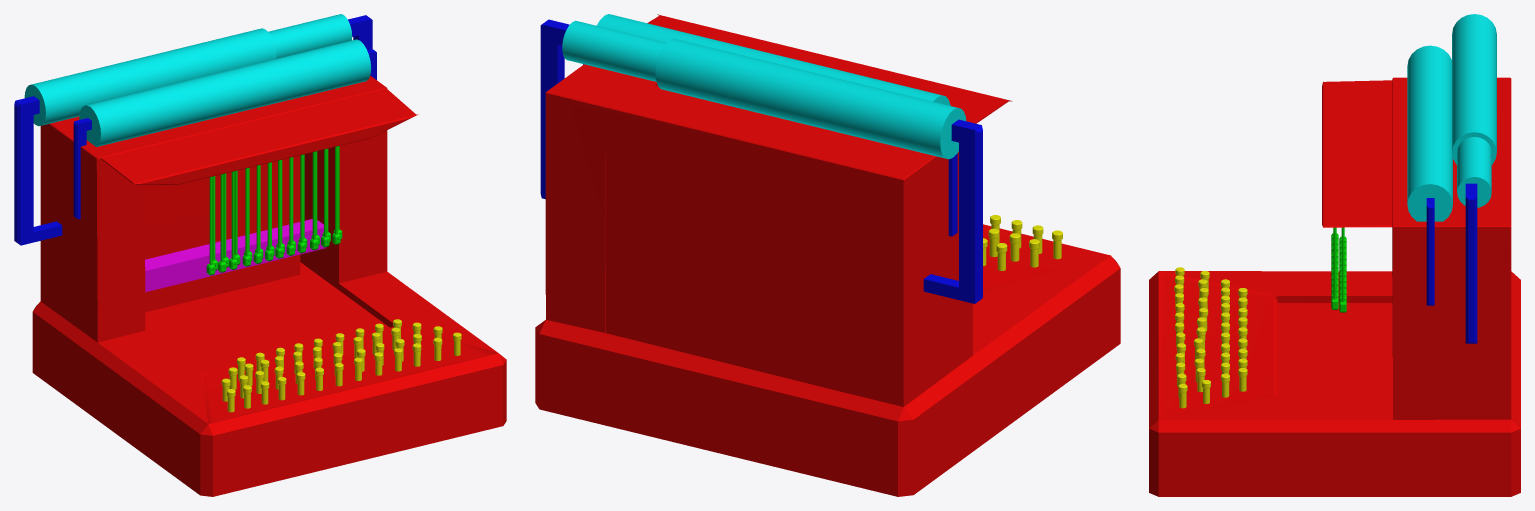
The model's file is Machine à écrire.fbx.
3 renders of one model, left to right at view 1: azimuth 30°, elevation 25°; view 2: azimuth 150°, elevation 25°; view 3: azimuth 270°, elevation 25°, orthographic. The views are drawn at different scales.
Visible parts, largest first — view 1: Machinne2, pCylinder56, pCube37, pCylinder55, pCube38, pCube39; view 2: Machinne2, pCylinder56, pCube38, pCylinder55; view 3: Machinne2, pCylinder56, pCylinder55, pCube38, pCube37.
Boxes of the visible parts, box(x1,y1,x2,y2) form: Machinne2: box(32, 76, 506, 496); pCylinder56: box(24, 14, 371, 146); pCube37: box(206, 146, 342, 275); pCylinder55: box(221, 319, 461, 412); pCube38: box(14, 15, 376, 245); pCube39: box(145, 219, 326, 292); Machinne2: box(535, 14, 1120, 496); pCylinder56: box(562, 14, 966, 159); pCube38: box(540, 19, 982, 303); pCylinder55: box(983, 215, 1062, 270); Machinne2: box(1149, 77, 1520, 496); pCylinder56: box(1407, 14, 1496, 221); pCylinder55: box(1174, 267, 1247, 408); pCube38: box(1426, 183, 1477, 343); pCube37: box(1331, 227, 1346, 312).
Size of the model in its own units: 1.16 by 0.9451 by 1.
